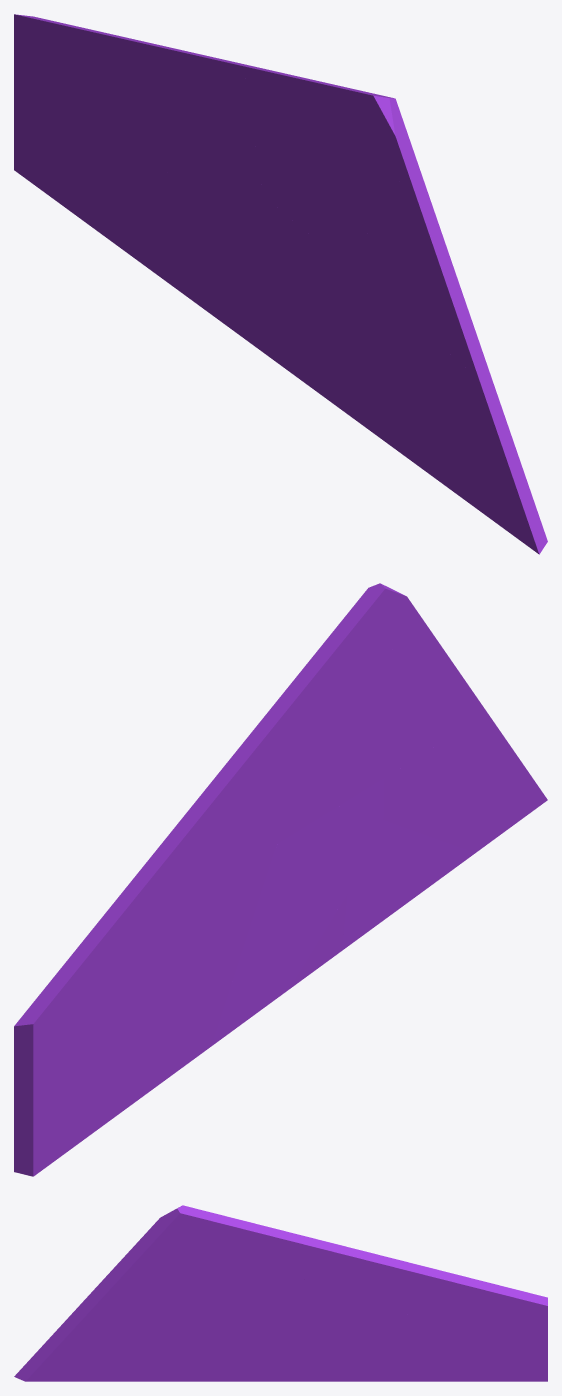
Rendered from Window_18_3_chunks.fbx.
3 renders of one model, top to bottom at view 1: azimuth 30°, elevation 25°; view 2: azimuth 150°, elevation 25°; view 3: azimuth 270°, elevation 25°, orthographic. The views are drawn at different scales.
Parts seen in each view (by area): view 1: Window_18_3_10, Window_18_3_8, Window_18_3_7, Window_18_3_9, Window_18_3_2, Window_18_3_1, Window_18_3_3, Window_18_3_5, Window_18_3_12, Window_18_3_11, Window_18_3_4, Window_18_3_6; view 2: Window_18_3_10, Window_18_3_8, Window_18_3_9, Window_18_3_7, Window_18_3_1, Window_18_3_2, Window_18_3_3, Window_18_3_5, Window_18_3_12, Window_18_3_11, Window_18_3_6, Window_18_3_0 (+1 smaller); view 3: Window_18_3_0, Window_18_3_10, Window_18_3_7, Window_18_3_8, Window_18_3_9, Window_18_3_12, Window_18_3_11, Window_18_3_6, Window_18_3_2, Window_18_3_5, Window_18_3_3, Window_18_3_4.
Boxes of the visible parts, left/top/right/bottom form: Window_18_3_10: left=14, top=14, right=167, bottom=269; Window_18_3_8: left=196, top=195, right=371, bottom=360; Window_18_3_7: left=371, top=288, right=547, bottom=554; Window_18_3_9: left=162, top=56, right=262, bottom=264; Window_18_3_2: left=362, top=172, right=480, bottom=377; Window_18_3_1: left=244, top=72, right=373, bottom=288; Window_18_3_3: left=243, top=66, right=400, bottom=187; Window_18_3_5: left=329, top=329, right=464, bottom=499; Window_18_3_12: left=86, top=30, right=225, bottom=135; Window_18_3_11: left=150, top=171, right=219, bottom=302; Window_18_3_4: left=380, top=115, right=441, bottom=231; Window_18_3_6: left=274, top=350, right=335, bottom=400; Window_18_3_10: left=14, top=932, right=183, bottom=1176; Window_18_3_8: left=212, top=778, right=384, bottom=1045; Window_18_3_9: left=178, top=743, right=276, bottom=973; Window_18_3_7: left=383, top=714, right=547, bottom=853; Window_18_3_1: left=259, top=694, right=385, bottom=843; Window_18_3_2: left=375, top=622, right=487, bottom=776; Window_18_3_3: left=253, top=583, right=404, bottom=750; Window_18_3_5: left=342, top=820, right=474, bottom=950; Window_18_3_12: left=77, top=791, right=213, bottom=948; Window_18_3_11: left=167, top=956, right=234, bottom=1078; Window_18_3_6: left=288, top=893, right=347, bottom=989; Window_18_3_0: left=238, top=587, right=369, bottom=748; Window_18_3_0: left=148, top=1212, right=315, bottom=1304; Window_18_3_10: left=403, top=1279, right=547, bottom=1381; Window_18_3_7: left=14, top=1304, right=187, bottom=1381; Window_18_3_8: left=186, top=1302, right=362, bottom=1381; Window_18_3_9: left=296, top=1238, right=386, bottom=1341; Window_18_3_12: left=351, top=1250, right=482, bottom=1316; Window_18_3_11: left=330, top=1311, right=423, bottom=1381; Window_18_3_6: left=165, top=1329, right=303, bottom=1381; Window_18_3_2: left=76, top=1238, right=154, bottom=1309; Window_18_3_5: left=106, top=1349, right=172, bottom=1381; Window_18_3_3: left=163, top=1205, right=314, bottom=1241; Window_18_3_4: left=133, top=1216, right=173, bottom=1266.
Size of the model in its own units: 27.21 by 443 by 1249.
